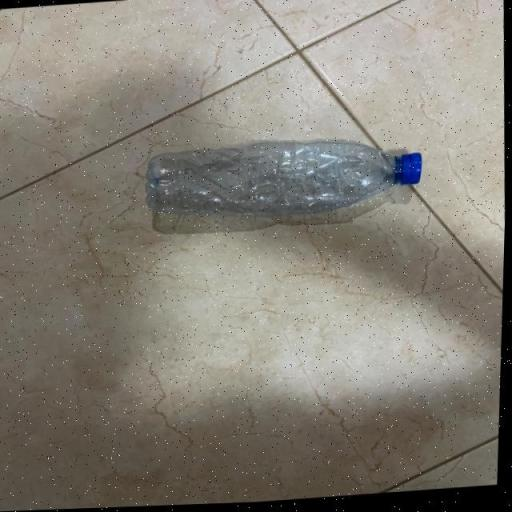plastic: (136, 130, 438, 230)
